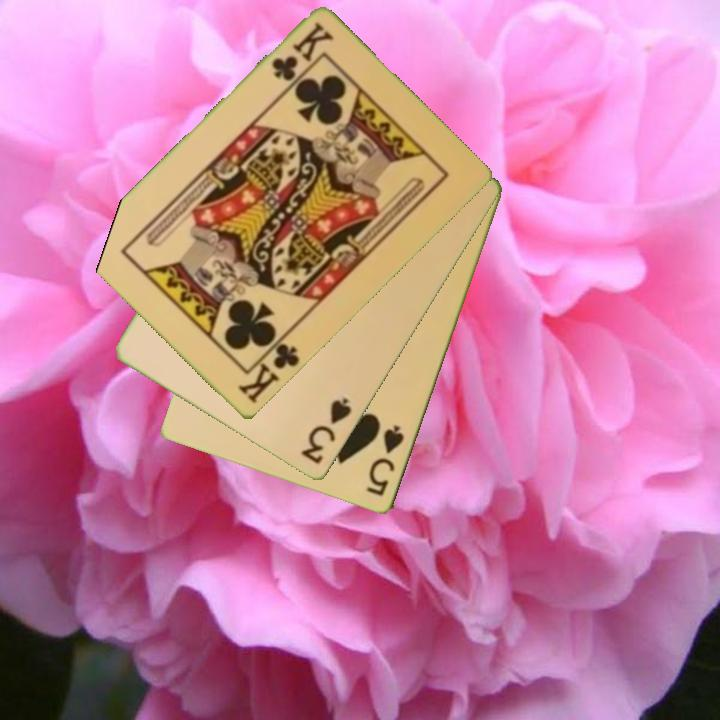3s: (298, 395, 355, 468)
5s: (363, 422, 407, 500)
Kc: (234, 331, 303, 407), (268, 18, 336, 85)
